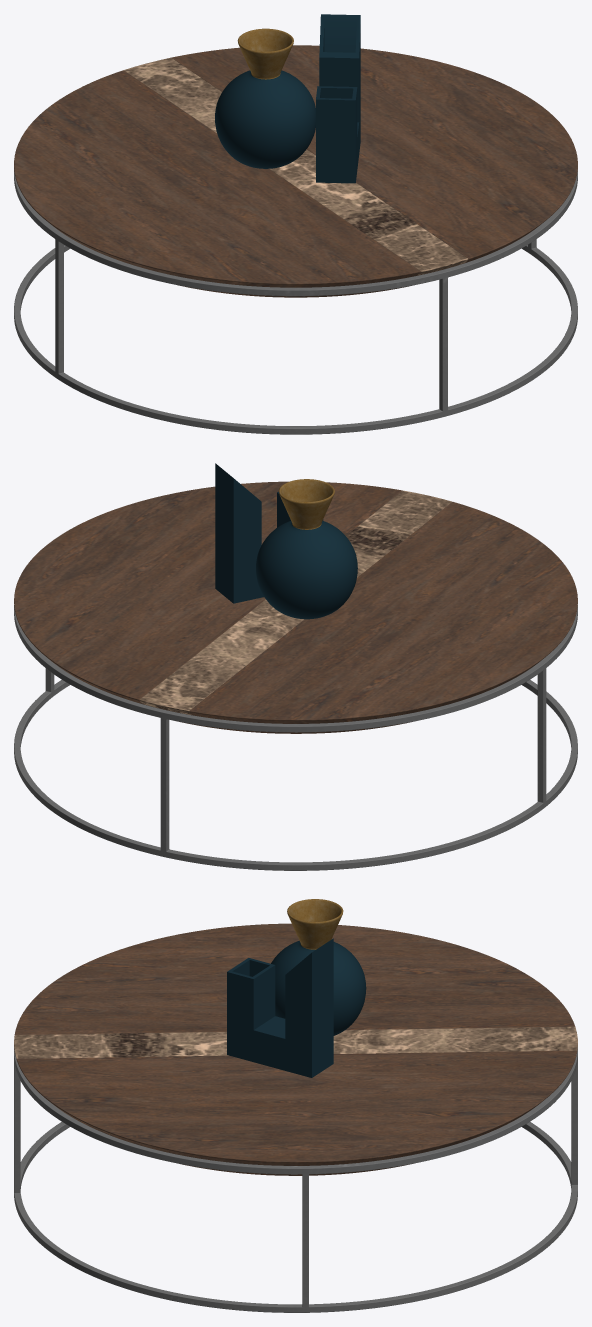
The model's file is coffee_table.d907f286.glb.
The picture shows the model from 3 angles, top to bottom: view 1: azimuth 30°, elevation 25°; view 2: azimuth 150°, elevation 25°; view 3: azimuth 270°, elevation 25°; orthographic projection.
Parts seen in each view (by area): view 1: 1_low, Vase_cyan_small.001, Vase_6_cyan.001; view 2: 1_low, Vase_cyan_small.001, Vase_6_cyan.001; view 3: 1_low, Vase_6_cyan.001, Vase_cyan_small.001.
Part boxes in pixels (left/top/right/bottom): 1_low: left=14, top=45, right=577, bottom=434; Vase_cyan_small.001: left=215, top=28, right=315, bottom=168; Vase_6_cyan.001: left=316, top=14, right=360, bottom=183; 1_low: left=14, top=481, right=577, bottom=870; Vase_cyan_small.001: left=256, top=479, right=357, bottom=619; Vase_6_cyan.001: left=215, top=463, right=323, bottom=603; 1_low: left=14, top=923, right=577, bottom=1312; Vase_6_cyan.001: left=227, top=938, right=333, bottom=1077; Vase_cyan_small.001: left=271, top=899, right=366, bottom=1035.
Bounding box in the file's own units: 120 × 65 × 120.
4 materials, 2 textured.
